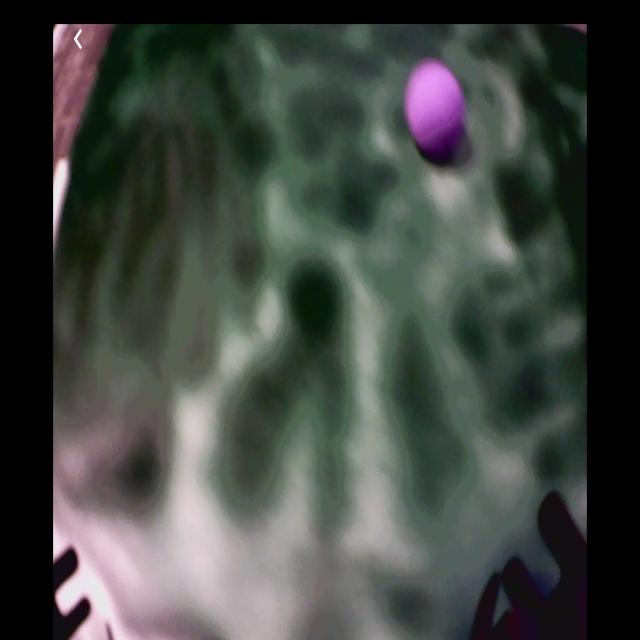ball: (406, 60, 466, 158)
